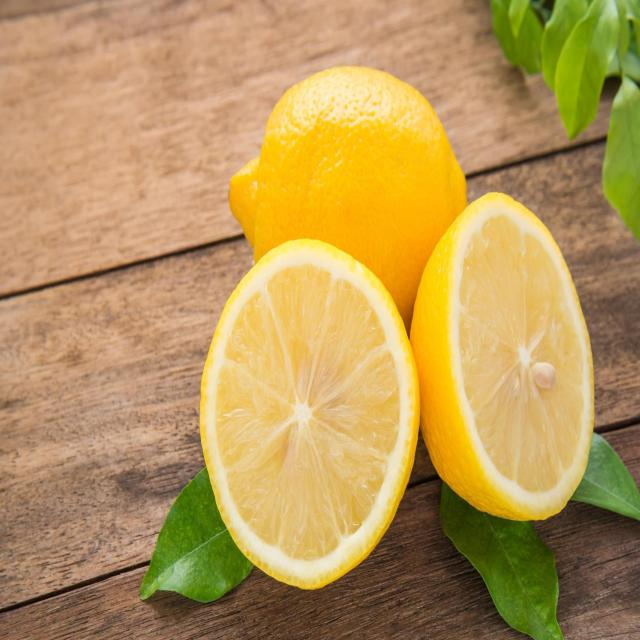lemon: (194, 228, 426, 602), (403, 184, 601, 527)
